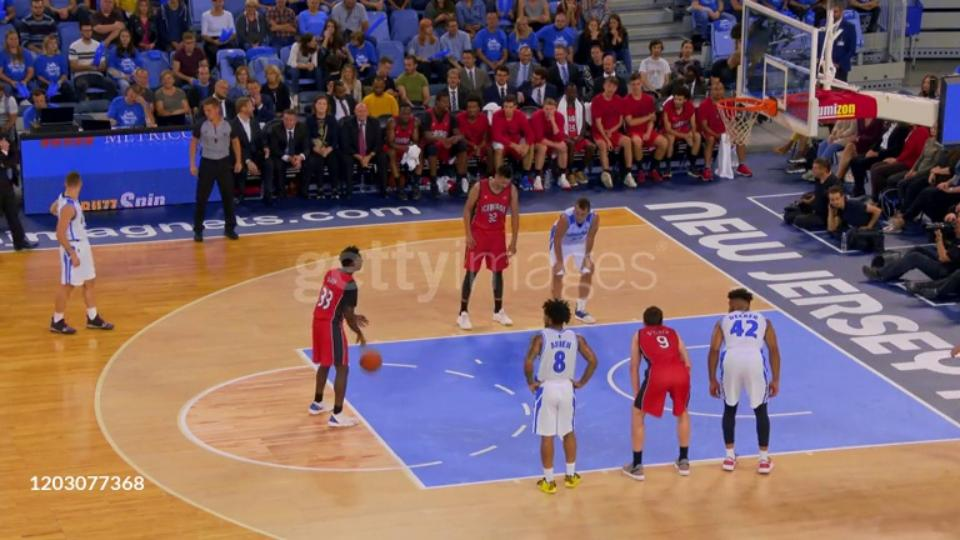hoop: (714, 95, 779, 119)
